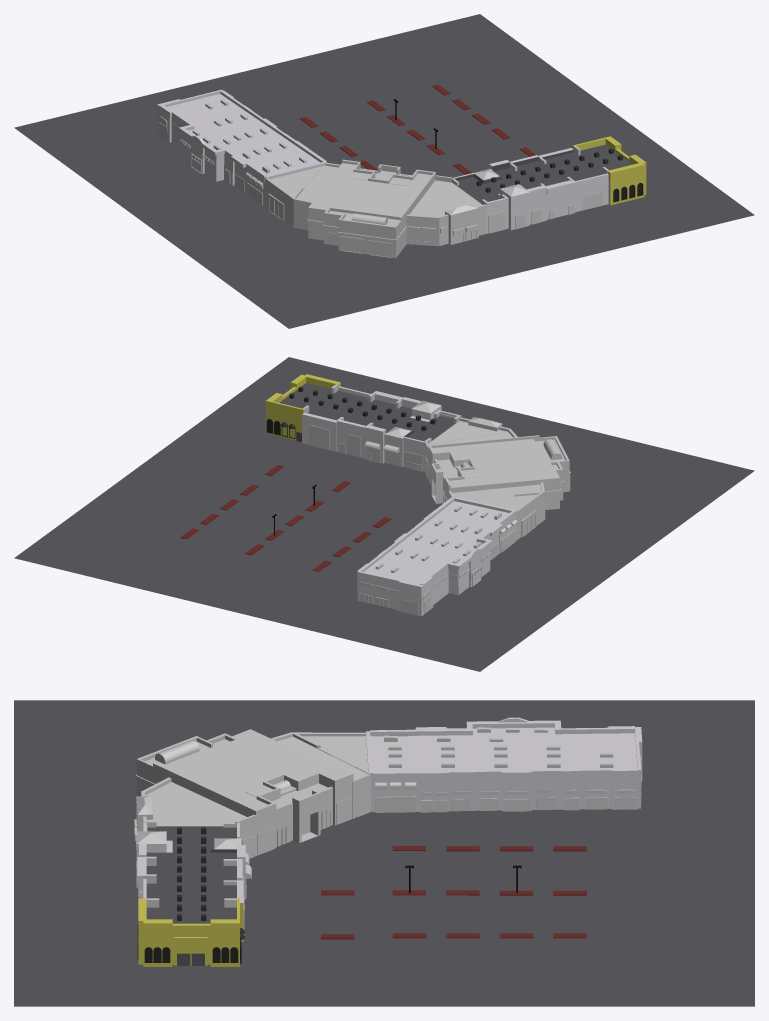
File: GrandCanyonPark.obj
3 views of the same model, one above another, from view 1: azimuth 30°, elevation 25°; view 2: azimuth 150°, elevation 25°; view 3: azimuth 270°, elevation 25° (orthographic). The views are drawn at different scales.
Visible parts, largest first — view 1: Plane.001, Cube, Cube.004, Cube.003_Cube.001, Cube.002_Cube.003, Cube.005, Cube.006, Cube.001_Cube.002, Cube.106_Cube.110; view 2: Plane.001, Cube.004, Cube, Cube.003_Cube.001, Cube.005, Cube.001_Cube.002, Cube.006; view 3: Plane.001, Cube.004, Cube.003_Cube.001, Cube, Cube.002_Cube.003, Cube.005, Cube.006, Cube.001_Cube.002, Cube.115_Cube.120, Cube.114_Cube.119, Cube.113_Cube.118, Cube.050_Cube.053 (+2 smaller).
Part boxes in pixels (box(x1,y1,x2,y2)): Plane.001: box(14, 14, 754, 328); Cube: box(454, 136, 646, 233); Cube.004: box(156, 89, 327, 205); Cube.003_Cube.001: box(307, 159, 435, 258); Cube.002_Cube.003: box(406, 175, 453, 246); Cube.005: box(264, 166, 322, 227); Cube.006: box(293, 163, 340, 230); Cube.001_Cube.002: box(438, 183, 486, 245); Cube.106_Cube.110: box(445, 205, 478, 244); Plane.001: box(14, 357, 754, 671); Cube.004: box(357, 497, 516, 616); Cube: box(265, 374, 461, 471); Cube.003_Cube.001: box(428, 435, 570, 509); Cube.005: box(467, 491, 545, 540); Cube.001_Cube.002: box(428, 413, 510, 444); Cube.006: box(448, 482, 544, 500); Plane.001: box(14, 700, 754, 1006); Cube.004: box(366, 717, 642, 812); Cube.003_Cube.001: box(135, 729, 353, 854); Cube: box(136, 822, 245, 966); Cube.002_Cube.003: box(140, 777, 258, 856); Cube.005: box(290, 732, 407, 773); Cube.006: box(271, 732, 370, 818); Cube.001_Cube.002: box(141, 791, 223, 831); Cube.115_Cube.120: box(392, 933, 586, 938); Cube.114_Cube.119: box(392, 890, 586, 895); Cube.113_Cube.118: box(392, 846, 586, 851); Cube.050_Cube.053: box(375, 796, 415, 812).
Size of the model in its own units: 95.47 by 7.39 by 97.53.
